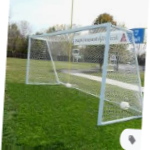goals: (25, 22, 142, 127)
